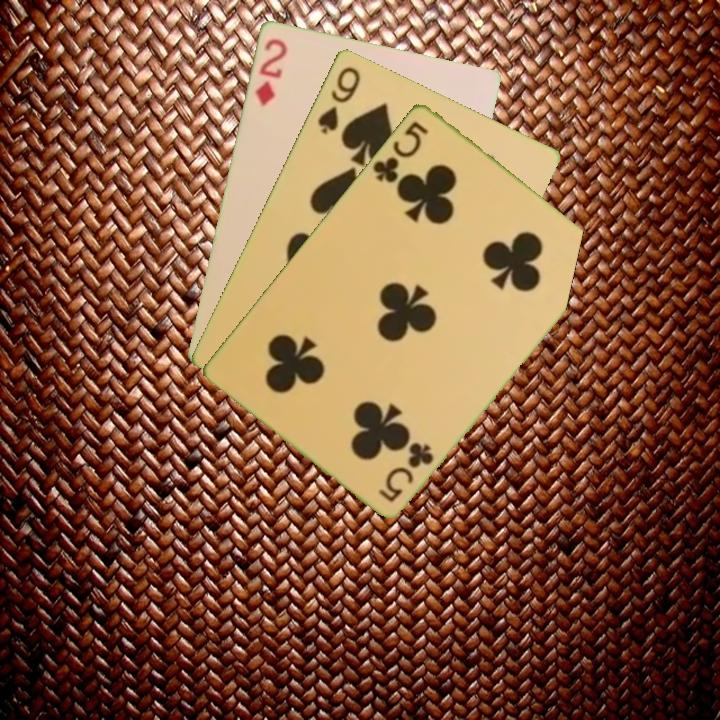2d: (251, 34, 290, 109)
5c: (369, 117, 431, 186), (375, 437, 437, 505)
9s: (314, 62, 364, 136)
